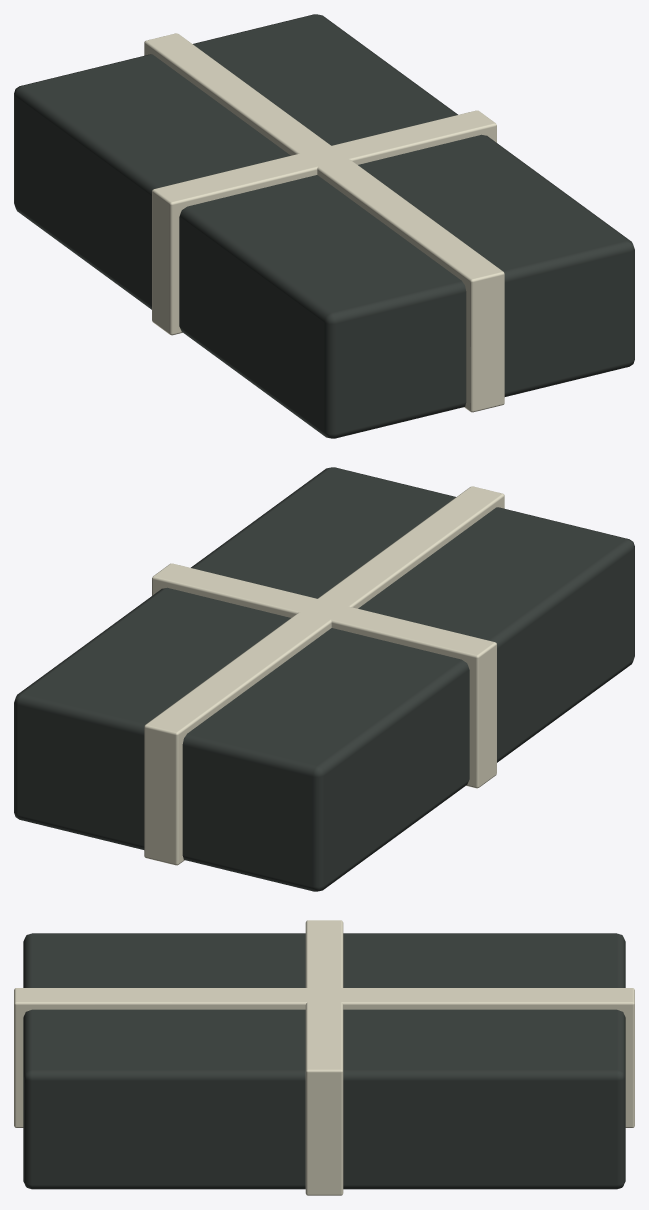
Rendered from survival-food-and-preservation-tea-brick-50ebcc88__21767.glb.
3 views of the same model, one above another, from view 1: azimuth 30°, elevation 25°; view 2: azimuth 150°, elevation 25°; view 3: azimuth 270°, elevation 25° (orthographic). The views are drawn at different scales.
Parts seen in each view (by area): view 1: tea-brick; view 2: tea-brick; view 3: tea-brick.
Boxes of the visible parts, x1,y1,x2,y2 form: tea-brick: (14,14,634,438); tea-brick: (14,467,634,891); tea-brick: (14,920,634,1195).
Size of the model in its own units: 0.095 by 0.037 by 0.165.
